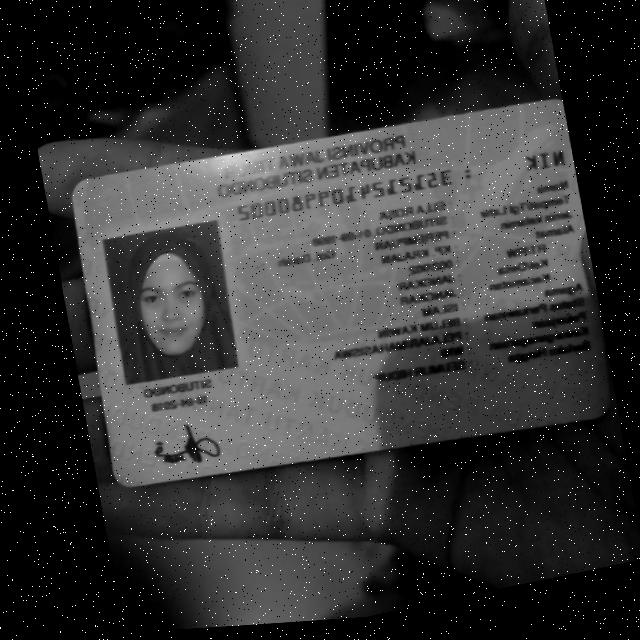card: (73, 101, 608, 486)
